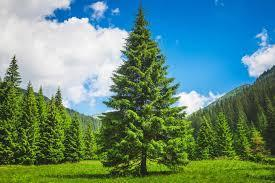tree: (102, 3, 194, 175)
